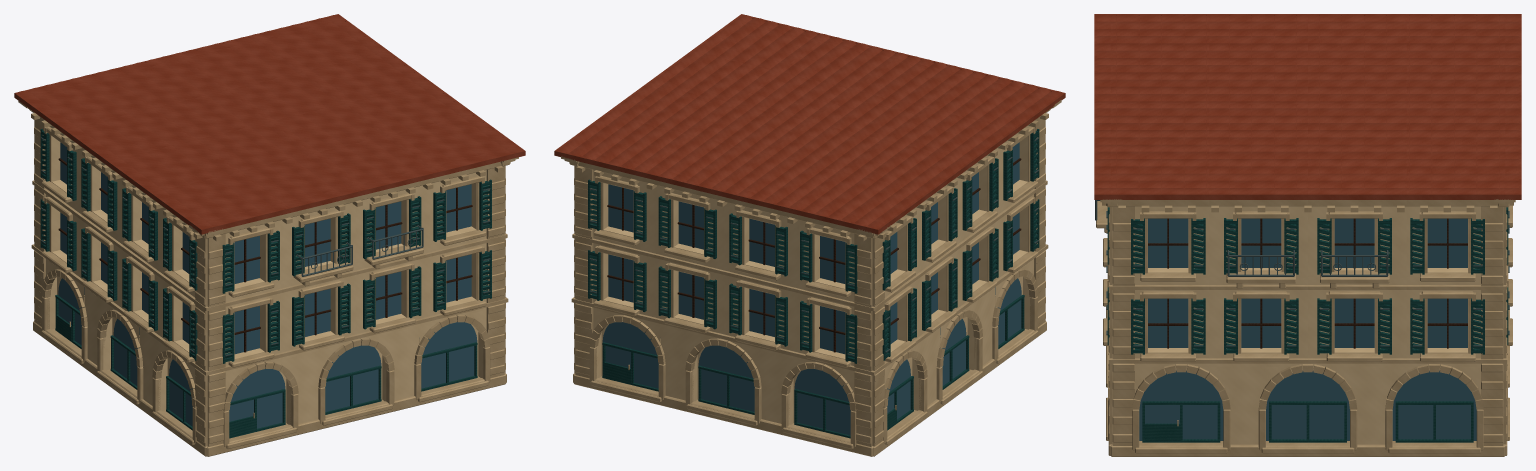
Rendered from casa-original.glb.
3 renders of one model, left to right at view 1: azimuth 30°, elevation 25°; view 2: azimuth 150°, elevation 25°; view 3: azimuth 270°, elevation 25°, orthographic. The views are drawn at different scales.
Visible parts, largest first — view 1: Barrel terracotta, Honey limestone, Lime plaster, Aged teal timber, Deep blue glazing, Graphite iron, Oiled walnut; view 2: Barrel terracotta, Honey limestone, Lime plaster, Aged teal timber, Deep blue glazing, Oiled walnut, Graphite iron; view 3: Barrel terracotta, Honey limestone, Deep blue glazing, Lime plaster, Aged teal timber, Graphite iron, Oiled walnut.
Boxes of the visible parts, left/top/right/bottom form: Barrel terracotta: left=14, top=14, right=525, bottom=234; Honey limestone: left=18, top=101, right=518, bottom=456; Lime plaster: left=46, top=126, right=486, bottom=445; Aged teal timber: left=40, top=129, right=491, bottom=438; Deep blue glazing: left=58, top=142, right=477, bottom=428; Graphite iron: left=41, top=137, right=490, bottom=356; Oiled walnut: left=58, top=158, right=472, bottom=352; Barrel terracotta: left=554, top=14, right=1065, bottom=234; Honey limestone: left=561, top=100, right=1061, bottom=456; Lime plaster: left=593, top=126, right=1033, bottom=445; Aged teal timber: left=588, top=129, right=1039, bottom=438; Deep blue glazing: left=602, top=142, right=1021, bottom=435; Oiled walnut: left=607, top=158, right=1021, bottom=352; Graphite iron: left=589, top=137, right=1038, bottom=356; Barrel terracotta: left=1094, top=14, right=1521, bottom=199; Honey limestone: left=1096, top=199, right=1515, bottom=456; Deep blue glazing: left=1139, top=218, right=1476, bottom=440; Lime plaster: left=1112, top=206, right=1503, bottom=444; Aged teal timber: left=1107, top=207, right=1508, bottom=442; Graphite iron: left=1095, top=200, right=1509, bottom=346; Oiled walnut: left=1148, top=218, right=1467, bottom=348.
Size of the model in its own units: 13 by 9.03 by 13.
Materials: 7 (5 with a texture image).
